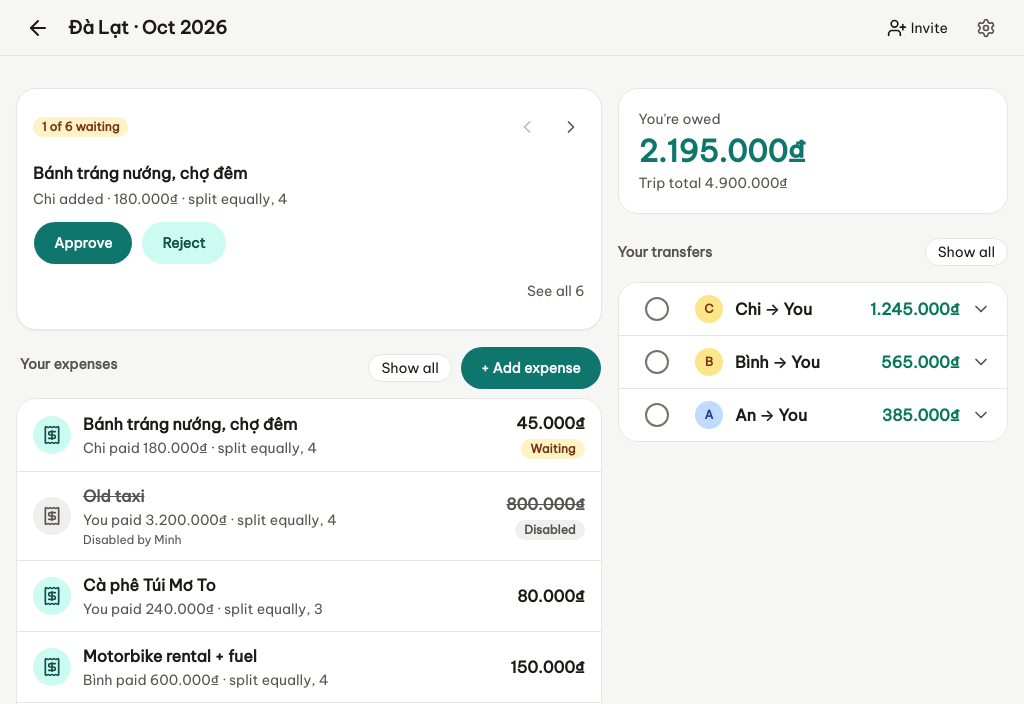
Scenario: approvals queue › approving moves on to the next one
Click the button "Approve" at [83, 243], box [33,221,133,265]
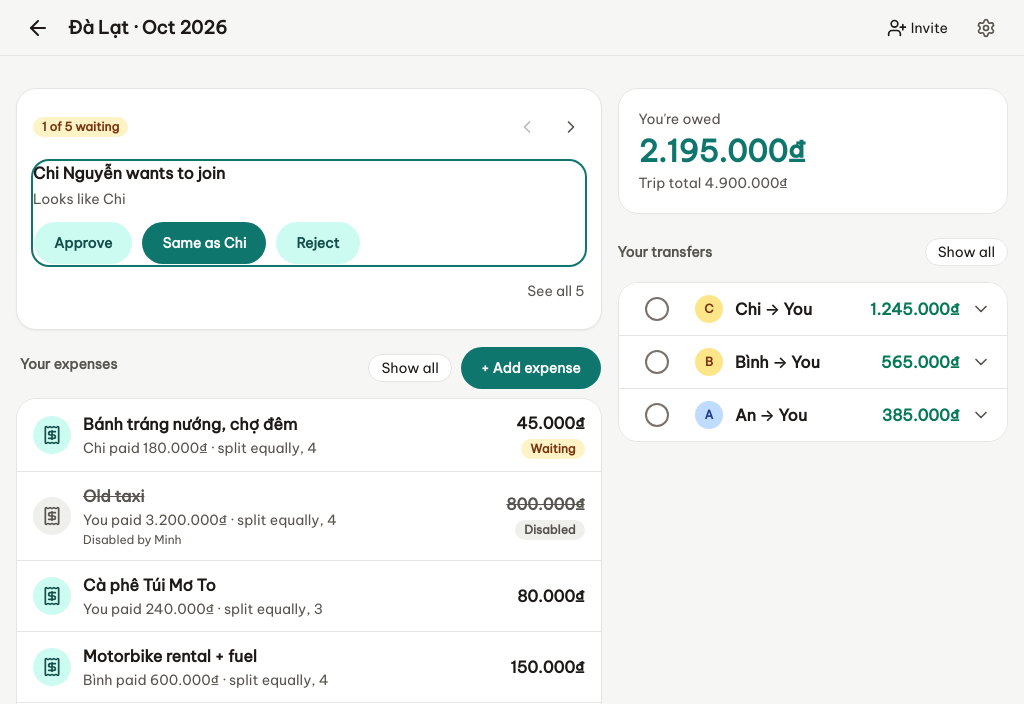
Expected: the text "1 of 5 waiting" is shown, [33,117,128,137]
Expected: the text "Chi Nguyễn wants to join" is shown, [33,163,225,183]
